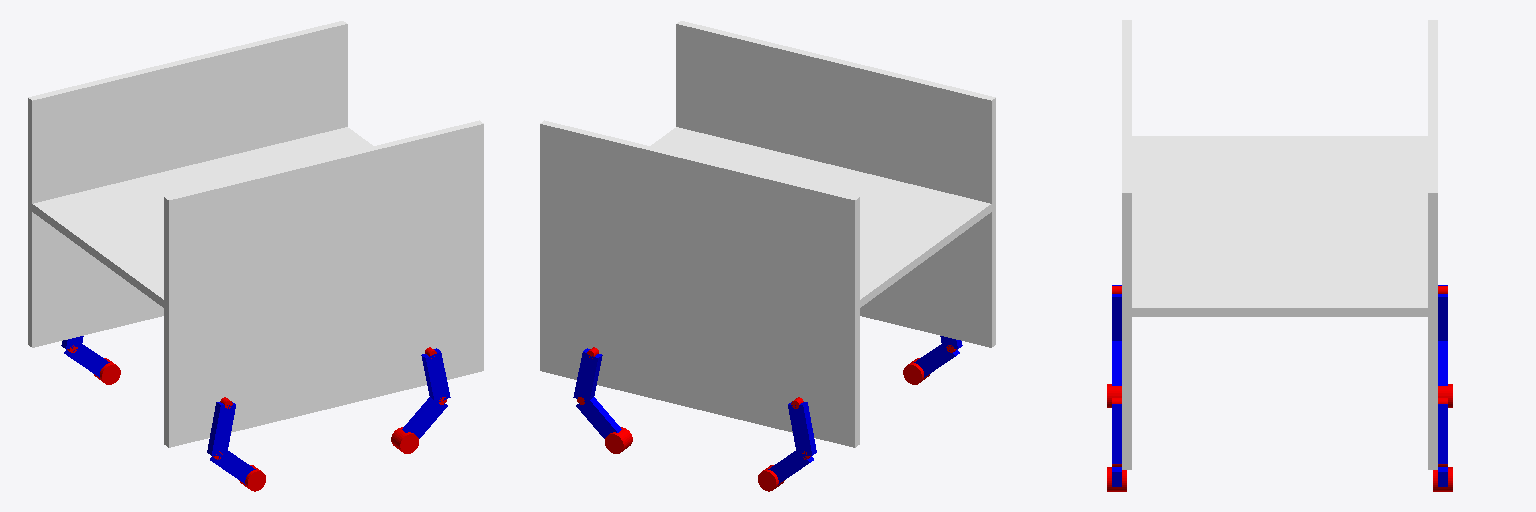
--- Facts derived from the render (not from the file) ---
3 views of the same robot in one strip: view 1: azimuth 30°, elevation 25°; view 2: azimuth 150°, elevation 25°; view 3: azimuth 270°, elevation 25° (orthographic).
Robot: anymal — 31 links, 30 joints (8 revolute, 22 fixed); root link base; default pose: all joints at 0.
Links seen in each view (by area): view 1: base_right, base_left, base, RF_THIGH_fixed, RH_THIGH_fixed, RH_SHANK_fixed, RF_SHANK_fixed, LF_SHANK_fixed; view 2: base_left, base_right, base, LF_THIGH_fixed, LH_THIGH_fixed, LH_SHANK_fixed, LF_SHANK_fixed, RF_SHANK_fixed; view 3: base, base_left, base_right, LH_THIGH_fixed, RH_THIGH_fixed.
Boxes of the visible links, <box> form: base_right: <box>164,120,483,447</box>; base_left: <box>28,21,347,347</box>; base: <box>30,127,372,309</box>; RF_THIGH_fixed: <box>207,402,235,455</box>; RH_THIGH_fixed: <box>421,348,450,403</box>; RH_SHANK_fixed: <box>402,397,447,438</box>; RF_SHANK_fixed: <box>210,448,255,484</box>; LF_SHANK_fixed: <box>64,342,109,377</box>; base_left: <box>540,120,859,447</box>; base_right: <box>676,21,995,347</box>; base: <box>651,127,993,307</box>; LF_THIGH_fixed: <box>788,402,816,455</box>; LH_THIGH_fixed: <box>573,348,602,403</box>; LH_SHANK_fixed: <box>576,397,621,438</box>; LF_SHANK_fixed: <box>768,448,813,484</box>; RF_SHANK_fixed: <box>914,342,959,377</box>; base: <box>1127,136,1432,316</box>; base_left: <box>1428,20,1437,469</box>; base_right: <box>1122,20,1131,469</box>; LH_THIGH_fixed: <box>1438,404,1447,463</box>; RH_THIGH_fixed: <box>1112,404,1121,463</box>.
Size in the robot's own frame: 0.02 by 0.017 by 0.0185 metres.
Geometry: primitives only (box / cylinder / sphere), no mesh files.

robot.urdf — anymal:
<?xml version="1.0" encoding="utf-8"?>
<!-- =================================================================================== -->
<!--   Copyright 2020 ANYbotics, https://www.anybotics.com                               -->
<!-- =================================================================================== -->
<!-- This file contains the description of the ANYmal C robot. -->
<robot name="anymal">
    <!-- Base link -->
    <link name="base">
        <visual>
            <origin rpy="0 0 0" xyz="0 0 0"/>
            <geometry>
                <box size = "0.02 0.015 0.5e-3"/>
            </geometry>
            <material name="Cyan">
                <color rgba="1.0 1.0 1.0 1.0"/>
            </material>
        </visual>
        <collision>
            <origin rpy="0 0 0" xyz="0 0 0"/>
            <geometry>
                <box size = "0.02 0.015 0.013"/>
            </geometry>
        </collision>
        <inertial>
            <origin xyz="0 0 0" rpy="0 0 0"/>
            <mass value="0.539e-3"/>
            <!-- <inertia 
                ixx="31.301e-9"  
                ixy="0"  
                ixz="0" 
                iyy="41.279e-9" 
                iyz="0" 
                izz="36.6e-9" /> -->
        </inertial>
    </link>
    <joint name="base_base_left" type="fixed">
        <parent link="base"/>
        <child link="base_left"/>
        <origin rpy="-1.5707963268 0 0" xyz="0 -0.0075 -0.001"/>
    </joint>

    <link name="base_left">
        <visual>
            <origin rpy="0 0 0" xyz="0 0 15e-3"/>
            <geometry>
                <box size = "0.02 0.015 0.5e-3"/>
            </geometry>
            <material name="Cyan">
                <color rgba="1.0 1.0 1.0 1.0"/>
            </material>
        </visual>
        <inertial>
            <origin xyz="0 0 0" rpy="0 0 0"/>
            <mass value="0.15e-3"/>
            <!-- <inertia 
                ixx="2.82e-9"  
                ixy="0"  
                ixz="0" 
                iyy="7.81e-9" 
                iyz="0" 
                izz="5.00e-9" /> -->
        </inertial>
    </link>

    <joint name="base_base_right" type="fixed">
        <parent link="base"/>
        <child link="base_right"/>
        <origin rpy="-1.5707963268 0 0.0" xyz="0 -0.0225 -0.001"/>
    </joint>

    <link name="base_right">
        <visual>
            <origin rpy="0 0 0" xyz="0 0 15e-3"/>
            <geometry>
                <box size = "0.02 0.015 0.5e-3"/>
            </geometry>
            <material name="Cyan">
                <color rgba="1.0 1.0 1.0 1.0"/>
            </material>
        </visual>
        <inertial>
            <origin xyz="0 0 0" rpy="0 0 0"/>
            <mass value="0.15e-3"/>
            <!-- <inertia 
                ixx="2.82e-9"  
                ixy="0"  
                ixz="0" 
                iyy="7.81e-9" 
                iyz="0" 
                izz="5.00e-9" /> -->
        </inertial>
    </link>


    <!--              -->
    <!-- Left Front Leg -->
    <!--              -->

    <!-- [rad] -->
    <!-- joint base HAA -->
    <joint name="base_LF_HFE" type="fixed">
        <parent link="base_left"/>
        <child link="LF_HFE"/>
        <origin rpy="0 0 3.34159265359" xyz="-0.0065 0.0055 0.0155"/>
    </joint>
    <!-- [m] -->
    <!-- [A] -->
    <!-- Drive Input Link -->
    <link name="LF_HFE">
        <visual>
            <origin rpy="0 0 0" xyz="0 0 0"/>
            <geometry>
                <cylinder length="0.5e-3" radius="0.25e-3"/>
            </geometry>
            <material name="Red">
                <color rgba="1.0 0.0 0.0 1.0"/>
            </material>
        </visual>
    </link>
    <!-- joint Drive output -->
    <joint name="LF_HFE" type="revolute">
        <parent link="LF_HFE"/>
        <child link="LF_THIGH"/>
        <origin rpy="0 0 0" xyz="0 0 0"/>
        <axis xyz="0 0 1"/>
        <limit effort="80.0" velocity="20." lower="-0.2" upper="0.2"/>
        <dynamics damping="0.0" friction="0.0"/>
    </joint>
    <!-- Drive Output Link -->
    <link name="LF_THIGH">
        <visual>
            <origin rpy="0 0 0" xyz="0 0 0"/>
            <geometry>
                <cylinder length="0.5e-3" radius="0.25e-3"/>
            </geometry>
            <material name="Red">
                <color rgba="1.0 0.0 0.0 0.8"/>
            </material>
        </visual>
    </link>
    <joint name="LF_THIGH_LF_THIGH_fixed" type="fixed">
        <parent link="LF_THIGH"/>
        <child link="LF_THIGH_fixed"/>
        <origin rpy="0 0 1.5707963268" xyz="0 -1.5e-3 0"/>
    </joint>
    <link name="LF_THIGH_fixed">
        <visual>
            <origin rpy="0 0 0" xyz="0 0 0"/>
            <geometry>
                <box size = "3e-3 1e-3 0.5e-3"/>
            </geometry>
            <material name="Blue">
                <color rgba="0.0 0.0 1.0 0.8"/>
            </material>
        </visual>
        <inertial>
            <origin rpy="0 0 0" xyz="0 0 0"/>
            <mass value="0.002e-9"/>
        <!-- <inertia 
            ixx="0.002e-9" 
            ixy="0" 
            ixz="0" 
            iyy="0.002e-9" 
            iyz="0" 
            izz="0.002e-9"/> -->
        </inertial>
    </link>
    <joint name="LF_THIGH_fixed_LF_KFE" type="fixed">
        <parent link="LF_THIGH_fixed"/>
        <child link="LF_KFE"/>
        <origin rpy="0 0 0.5235987756" xyz="-1.5e-3 0 0"/>
    </joint>
    <!-- [m] -->
    <!-- [A] -->
    <!-- Drive Input Link -->
    <link name="LF_KFE">
        <visual>
            <origin rpy="0 0 0" xyz="0 0 0"/>
            <geometry>
                <cylinder length="0.5e-3" radius="0.25e-3"/>
            </geometry>
            <material name="Red">
                <color rgba="1.0 0.0 0.0 0.8"/>
            </material>
        </visual>
        <collision>
            <origin rpy="0 0 0" xyz="0 0 0"/>
            <geometry>
                <cylinder length="0.5e-3" radius="0.25e-3"/>
            </geometry>
        </collision>
    </link>
    <!-- joint Drive output -->
    <joint name="LF_KFE" type="revolute">
        <parent link="LF_KFE"/>
        <child link="LF_SHANK"/>
        <origin rpy="0 0 0" xyz="0 0 0"/>
        <axis xyz="0 0 1"/>
        <limit effort="80.0" velocity="20." lower="-0.2" upper="0.2"/>
        <dynamics damping="0.0" friction="0.0"/>
    </joint>
    <!-- Drive Output Link -->
    <link name="LF_SHANK">
        <visual>
            <origin rpy="0 0 0" xyz="0 0 0"/>
            <geometry>
                <cylinder length="0.5e-3" radius="0.25e-3"/>
            </geometry>
            <material name="Red">
                <color rgba="1.0 0.0 0.0 0.8"/>
            </material>
        </visual>
    </link>
    <joint name="LF_SHANK_LF_SHANK_fixed" type="fixed">
        <parent link="LF_SHANK"/>
        <child link="LF_SHANK_fixed"/>
        <origin rpy="0 0 1.5707963268" xyz="0 1.5e-3 0"/>
    </joint>
    <link name="LF_SHANK_fixed">
        <visual>
            <origin rpy="0 0 0" xyz="0 0 0"/>
            <geometry>
                <box size = "3e-3 1e-3 0.5e-3"/>
            </geometry>
            <material name="Blue">
                <color rgba="0.0 0.0 1.0 0.8"/>
            </material>
        </visual>
        <inertial>
            <origin rpy="0 0 0" xyz="0 0 0"/>
            <mass value="0.002e-9"/>
        <!-- <inertia 
            ixx="0.002e-9" 
            ixy="0" 
            ixz="0" 
            iyy="0.002e-9" 
            iyz="0" 
            izz="0.002e-9"/> -->
        </inertial>
    </link>
    <joint name="LF_SHANK_fixed_LF_Foot" type="fixed">
        <parent link="LF_SHANK_fixed"/>
        <child link="LF_Foot"/>
        <origin rpy="0 0 1.5707963268" xyz="1.5e-3 0 0"/>
    </joint>
    <link name="LF_Foot">
        <visual>
            <origin rpy="0 0 0" xyz="0 0 0"/>
            <geometry>
                <cylinder length="1e-3" radius="0.6e-3"/>
            </geometry>
            <material name="Red">
                <color rgba="1.0 0.0 0.0 0.8"/>
            </material>
        </visual>
        <collision>
            <origin rpy="0 0 0" xyz="0 0 0"/>
            <geometry>
                <cylinder length="1e-3" radius="0.6e-3"/>
            </geometry>
        </collision>
    </link>



    <!--              -->
    <!-- Left Hind Leg -->
    <!--              -->

    <!-- [rad] -->
    <!-- joint base HAA -->
    <joint name="base_LH_HFE" type="fixed">
        <parent link="base_left"/>
        <child link="LH_HFE"/>
        <origin rpy="0 0 2.9415926535" xyz="0.0065 0.0055 0.0155"/>
    </joint>
    <!-- [m] -->
    <!-- [A] -->
    <!-- Drive Input Link -->
    <link name="LH_HFE">
        <visual>
            <origin rpy="0 0 0" xyz="0 0 0"/>
            <geometry>
                <cylinder length="0.5e-3" radius="0.25e-3"/>
            </geometry>
            <material name="Red">
                <color rgba="1.0 0.0 0.0 1.0"/>
            </material>
        </visual>
    </link>
    <!-- joint Drive output -->
    <joint name="LH_HFE" type="revolute">
        <parent link="LH_HFE"/>
        <child link="LH_THIGH"/>
        <origin rpy="0 0 0" xyz="0 0 0"/>
        <axis xyz="0 0 1"/>
        <limit effort="80.0" velocity="20." lower="-0.2" upper="0.2"/>
        <dynamics damping="0.0" friction="0.0"/>
    </joint>
    <!-- Drive Output Link -->
    <link name="LH_THIGH">
        <visual>
            <origin rpy="0 0 0" xyz="0 0 0"/>
            <geometry>
                <cylinder length="0.5e-3" radius="0.25e-3"/>
            </geometry>
            <material name="Red">
                <color rgba="1.0 0.0 0.0 0.8"/>
            </material>
        </visual>
    </link>
    <joint name="LH_THIGH_LH_THIGH_fixed" type="fixed">
        <parent link="LH_THIGH"/>
        <child link="LH_THIGH_fixed"/>
        <origin rpy="0 0 1.5707963268" xyz="0 -1.5e-3 0"/>
    </joint>
    <link name="LH_THIGH_fixed">
        <visual>
            <origin rpy="0 0 0" xyz="0 0 0"/>
            <geometry>
                <box size = "3e-3 1e-3 0.5e-3"/>
            </geometry>
            <material name="Blue">
                <color rgba="0.0 0.0 1.0 0.8"/>
            </material>
        </visual>
        <inertial>
            <origin rpy="0 0 0" xyz="0 0 0"/>
            <mass value="0.002e-9"/>
        <!-- <inertia 
            ixx="0.002e-9" 
            ixy="0" 
            ixz="0" 
            iyy="0.002e-9" 
            iyz="0" 
            izz="0.002e-9"/> -->
        </inertial>
    </link>
    <joint name="LH_THIGH_fixed_LH_KFE" type="fixed">
        <parent link="LH_THIGH_fixed"/>
        <child link="LH_KFE"/>
        <origin rpy="0 0 2.61799387799" xyz="-1.5e-3 0 0"/>
    </joint>
    <!-- [m] -->
    <!-- [A] -->
    <!-- Drive Input Link -->
    <link name="LH_KFE">
        <visual>
            <origin rpy="0 0 0" xyz="0 0 0"/>
            <geometry>
                <cylinder length="0.5e-3" radius="0.25e-3"/>
            </geometry>
            <material name="Red">
                <color rgba="1.0 0.0 0.0 0.8"/>
            </material>
        </visual>
        <collision>
            <origin rpy="0 0 0" xyz="0 0 0"/>
            <geometry>
                <cylinder length="0.5e-3" radius="0.25e-3"/>
            </geometry>
        </collision>
    </link>
    <!-- joint Drive output -->
    <joint name="LH_KFE" type="revolute">
        <parent link="LH_KFE"/>
        <child link="LH_SHANK"/>
        <origin rpy="0 0 0" xyz="0 0 0"/>
        <axis xyz="0 0 1"/>
        <limit effort="80.0" velocity="20." lower="-0.2" upper="0.2"/>
        <dynamics damping="0.0" friction="0.0"/>
    </joint>
    <!-- Drive Output Link -->
    <link name="LH_SHANK">
        <visual>
            <origin rpy="0 0 0" xyz="0 0 0"/>
            <geometry>
                <cylinder length="0.5e-3" radius="0.25e-3"/>
            </geometry>
            <material name="Red">
                <color rgba="1.0 0.0 0.0 0.8"/>
            </material>
        </visual>
    </link>
    <joint name="LH_SHANK_LH_SHANK_fixed" type="fixed">
        <parent link="LH_SHANK"/>
        <child link="LH_SHANK_fixed"/>
        <origin rpy="0 0 1.5707963268" xyz="0 1.5e-3 0"/>
    </joint>
    <link name="LH_SHANK_fixed">
        <visual>
            <origin rpy="0 0 0" xyz="0 0 0"/>
            <geometry>
                <box size = "3e-3 1e-3 0.5e-3"/>
            </geometry>
            <material name="Blue">
                <color rgba="0.0 0.0 1.0 0.8"/>
            </material>
        </visual>
        <inertial>
            <origin rpy="0 0 0" xyz="0 0 0"/>
            <mass value="0.002e-9"/>
        <!-- <inertia 
            ixx="0.002e-9" 
            ixy="0" 
            ixz="0" 
            iyy="0.002e-9" 
            iyz="0" 
            izz="0.002e-9"/> -->
        </inertial>
    </link>
    <joint name="LH_SHANK_fixed_LH_Foot" type="fixed">
        <parent link="LH_SHANK_fixed"/>
        <child link="LH_Foot"/>
        <origin rpy="0 0 1.5707963268" xyz="1.5e-3 0 0"/>
    </joint>
    <link name="LH_Foot">
        <visual>
            <origin rpy="0 0 0" xyz="0 0 0"/>
            <geometry>
                <cylinder length="1e-3" radius="0.6e-3"/>
            </geometry>
            <material name="Red">
                <color rgba="1.0 0.0 0.0 0.8"/>
            </material>
        </visual>
        <collision>
            <origin rpy="0 0 0" xyz="0 0 0"/>
            <geometry>
                <cylinder length="1e-3" radius="0.6e-3"/>
            </geometry>
        </collision>
    </link>

    <!--              -->
    <!-- Right Front Leg -->
    <!--              -->

    <!-- [rad] -->
    <!-- joint base HAA -->
    <joint name="base_RF_HFE" type="fixed">
        <parent link="base_right"/>
        <child link="RF_HFE"/>
        <origin rpy="0 0 3.34159265359" xyz="-0.0065 0.0055 0.0145"/>
    </joint>
    <!-- [m] -->
    <!-- [A] -->
    <!-- Drive Input Link -->
    <link name="RF_HFE">
        <visual>
            <origin rpy="0 0 0" xyz="0 0 0"/>
            <geometry>
                <cylinder length="0.5e-3" radius="0.25e-3"/>
            </geometry>
            <material name="Red">
                <color rgba="1.0 0.0 0.0 1.0"/>
            </material>
        </visual>
    </link>
    <!-- joint Drive output -->
    <joint name="RF_HFE" type="revolute">
        <parent link="RF_HFE"/>
        <child link="RF_THIGH"/>
        <origin rpy="0 0 0" xyz="0 0 0"/>
        <axis xyz="0 0 1"/>
        <limit effort="80.0" velocity="20." lower="-0.2" upper="0.2"/>
        <dynamics damping="0.0" friction="0.0"/>
    </joint>
    <!-- Drive Output Link -->
    <link name="RF_THIGH">
        <visual>
            <origin rpy="0 0 0" xyz="0 0 0"/>
            <geometry>
                <cylinder length="0.5e-3" radius="0.25e-3"/>
            </geometry>
            <material name="Red">
                <color rgba="1.0 0.0 0.0 0.8"/>
            </material>
        </visual>
    </link>
    <joint name="RF_THIGH_RF_THIGH_fixed" type="fixed">
        <parent link="RF_THIGH"/>
        <child link="RF_THIGH_fixed"/>
        <origin rpy="0 0 1.5707963268" xyz="0 -1.5e-3 0"/>
    </joint>
    <link name="RF_THIGH_fixed">
        <visual>
            <origin rpy="0 0 0" xyz="0 0 0"/>
            <geometry>
                <box size = "3e-3 1e-3 0.5e-3"/>
            </geometry>
            <material name="Blue">
                <color rgba="0.0 0.0 1.0 0.8"/>
            </material>
        </visual>
        <inertial>
            <origin rpy="0 0 0" xyz="0 0 0"/>
            <mass value="0.002e-9"/>
        <!-- <inertia 
            ixx="0.002e-9" 
            ixy="0" 
            ixz="0" 
            iyy="0.002e-9" 
            iyz="0" 
            izz="0.002e-9"/> -->
        </inertial>
    </link>
    <joint name="RF_THIGH_fixed_RF_KFE" type="fixed">
        <parent link="RF_THIGH_fixed"/>
        <child link="RF_KFE"/>
        <origin rpy="0 0 0.5235987756" xyz="-1.5e-3 0 0"/>
    </joint>
    <!-- [m] -->
    <!-- [A] -->
    <!-- Drive Input Link -->
    <link name="RF_KFE">
        <visual>
            <origin rpy="0 0 0" xyz="0 0 0"/>
            <geometry>
                <cylinder length="0.5e-3" radius="0.25e-3"/>
            </geometry>
            <material name="Red">
                <color rgba="1.0 0.0 0.0 0.8"/>
            </material>
        </visual>
        <collision>
            <origin rpy="0 0 0" xyz="0 0 0"/>
            <geometry>
                <cylinder length="0.5e-3" radius="0.25e-3"/>
            </geometry>
        </collision>
    </link>
    <!-- joint Drive output -->
    <joint name="RF_KFE" type="revolute">
        <parent link="RF_KFE"/>
        <child link="RF_SHANK"/>
        <origin rpy="0 0 0" xyz="0 0 0"/>
        <axis xyz="0 0 1"/>
        <limit effort="80.0" velocity="20." lower="-0.2" upper="0.2"/>
        <dynamics damping="0.0" friction="0.0"/>
    </joint>
    <!-- Drive Output Link -->
    <link name="RF_SHANK">
        <visual>
            <origin rpy="0 0 0" xyz="0 0 0"/>
            <geometry>
                <cylinder length="0.5e-3" radius="0.25e-3"/>
            </geometry>
            <material name="Red">
                <color rgba="1.0 0.0 0.0 0.8"/>
            </material>
        </visual>
    </link>
    <joint name="RF_SHANK_RF_SHANK_fixed" type="fixed">
        <parent link="RF_SHANK"/>
        <child link="RF_SHANK_fixed"/>
        <origin rpy="0 0 1.5707963268" xyz="0 1.5e-3 0"/>
    </joint>
    <link name="RF_SHANK_fixed">
        <visual>
            <origin rpy="0 0 0" xyz="0 0 0"/>
            <geometry>
                <box size = "3e-3 1e-3 0.5e-3"/>
            </geometry>
            <material name="Blue">
                <color rgba="0.0 0.0 1.0 0.8"/>
            </material>
        </visual>
        <inertial>
            <origin rpy="0 0 0" xyz="0 0 0"/>
            <mass value="0.002e-9"/>
        <!-- <inertia 
            ixx="0.002e-9" 
            ixy="0" 
            ixz="0" 
            iyy="0.002e-9" 
            iyz="0" 
            izz="0.002e-9"/> -->
        </inertial>
    </link>
    <joint name="RF_SHANK_fixed_RF_Foot" type="fixed">
        <parent link="RF_SHANK_fixed"/>
        <child link="RF_Foot"/>
        <origin rpy="0 0 1.5707963268" xyz="1.5e-3 0 0"/>
    </joint>
    <link name="RF_Foot">
        <visual>
            <origin rpy="0 0 0" xyz="0 0 0"/>
            <geometry>
                <cylinder length="1e-3" radius="0.6e-3"/>
            </geometry>
            <material name="Red">
                <color rgba="1.0 0.0 0.0 0.8"/>
            </material>
        </visual>
        <collision>
            <origin rpy="0 0 0" xyz="0 0 0"/>
            <geometry>
                <cylinder length="1e-3" radius="0.6e-3"/>
            </geometry>
        </collision>
    </link>



    <!--              -->
    <!-- Right Hind Leg -->
    <!--              -->

    <!-- [rad] -->
    <!-- joint base HAA -->
    <joint name="base_RH_HFE" type="fixed">
        <parent link="base_right"/>
        <child link="RH_HFE"/>
        <origin rpy="0 0 2.9415926535" xyz="0.0065 0.0055 0.0145"/>
    </joint>
    <!-- [m] -->
    <!-- [A] -->
    <!-- Drive Input Link -->
    <link name="RH_HFE">
        <visual>
            <origin rpy="0 0 0" xyz="0 0 0"/>
            <geometry>
                <cylinder length="0.5e-3" radius="0.25e-3"/>
            </geometry>
            <material name="Red">
                <color rgba="1.0 0.0 0.0 1.0"/>
            </material>
        </visual>
    </link>
    <!-- joint Drive output -->
    <joint name="RH_HFE" type="revolute">
        <parent link="RH_HFE"/>
        <child link="RH_THIGH"/>
        <origin rpy="0 0 0" xyz="0 0 0"/>
        <axis xyz="0 0 1"/>
        <limit effort="80.0" velocity="20." lower="-0.2" upper="0.2"/>
        <dynamics damping="0.0" friction="0.0"/>
    </joint>
    <!-- Drive Output Link -->
    <link name="RH_THIGH">
        <visual>
            <origin rpy="0 0 0" xyz="0 0 0"/>
            <geometry>
                <cylinder length="0.5e-3" radius="0.25e-3"/>
            </geometry>
            <material name="Red">
                <color rgba="1.0 0.0 0.0 0.8"/>
            </material>
        </visual>
    </link>
    <joint name="RH_THIGH_RH_THIGH_fixed" type="fixed">
        <parent link="RH_THIGH"/>
        <child link="RH_THIGH_fixed"/>
        <origin rpy="0 0 1.5707963268" xyz="0 -1.5e-3 0"/>
    </joint>
    <link name="RH_THIGH_fixed">
        <visual>
            <origin rpy="0 0 0" xyz="0 0 0"/>
            <geometry>
                <box size = "3e-3 1e-3 0.5e-3"/>
            </geometry>
            <material name="Blue">
                <color rgba="0.0 0.0 1.0 0.8"/>
            </material>
        </visual>
        <inertial>
            <origin rpy="0 0 0" xyz="0 0 0"/>
            <mass value="0.002e-9"/>
        <!-- <inertia 
            ixx="0.002e-9" 
            ixy="0" 
            ixz="0" 
            iyy="0.002e-9" 
            iyz="0" 
            izz="0.002e-9"/> -->
        </inertial>
    </link>
    <joint name="RH_THIGH_fixed_RH_KFE" type="fixed">
        <parent link="RH_THIGH_fixed"/>
        <child link="RH_KFE"/>
        <origin rpy="0 0 2.61799387799" xyz="-1.5e-3 0 0"/>
    </joint>
    <!-- [m] -->
    <!-- [A] -->
    <!-- Drive Input Link -->
    <link name="RH_KFE">
        <visual>
            <origin rpy="0 0 0" xyz="0 0 0"/>
            <geometry>
                <cylinder length="0.5e-3" radius="0.25e-3"/>
            </geometry>
            <material name="Red">
                <color rgba="1.0 0.0 0.0 0.8"/>
            </material>
        </visual>
        <collision>
            <origin rpy="0 0 0" xyz="0 0 0"/>
            <geometry>
                <cylinder length="0.5e-3" radius="0.25e-3"/>
            </geometry>
        </collision>
    </link>
    <!-- joint Drive output -->
    <joint name="RH_KFE" type="revolute">
        <parent link="RH_KFE"/>
        <child link="RH_SHANK"/>
        <origin rpy="0 0 0" xyz="0 0 0"/>
        <axis xyz="0 0 1"/>
        <limit effort="80.0" velocity="20." lower="-0.2" upper="0.2"/>
        <dynamics damping="0.0" friction="0.0"/>
    </joint>
    <!-- Drive Output Link -->
    <link name="RH_SHANK">
        <visual>
            <origin rpy="0 0 0" xyz="0 0 0"/>
            <geometry>
                <cylinder length="0.5e-3" radius="0.25e-3"/>
            </geometry>
            <material name="Red">
                <color rgba="1.0 0.0 0.0 0.8"/>
            </material>
        </visual>
    </link>
    <joint name="RH_SHANK_RH_SHANK_fixed" type="fixed">
        <parent link="RH_SHANK"/>
        <child link="RH_SHANK_fixed"/>
        <origin rpy="0 0 1.5707963268" xyz="0 1.5e-3 0"/>
    </joint>
    <link name="RH_SHANK_fixed">
        <visual>
            <origin rpy="0 0 0" xyz="0 0 0"/>
            <geometry>
                <box size = "3e-3 1e-3 0.5e-3"/>
            </geometry>
            <material name="Blue">
                <color rgba="0.0 0.0 1.0 0.8"/>
            </material>
        </visual>
        <inertial>
            <origin rpy="0 0 0" xyz="0 0 0"/>
            <mass value="0.002e-9"/>
        <!-- <inertia 
            ixx="0.002e-9" 
            ixy="0" 
            ixz="0" 
            iyy="0.002e-9" 
            iyz="0" 
            izz="0.002e-9"/> -->
        </inertial>
    </link>
    <joint name="RH_SHANK_fixed_RH_Foot" type="fixed">
        <parent link="RH_SHANK_fixed"/>
        <child link="RH_Foot"/>
        <origin rpy="0 0 1.5707963268" xyz="1.5e-3 0 0"/>
    </joint>
    <link name="RH_Foot">
        <visual>
            <origin rpy="0 0 0" xyz="0 0 0"/>
            <geometry>
                <cylinder length="1e-3" radius="0.6e-3"/>
            </geometry>
            <material name="Red">
                <color rgba="1.0 0.0 0.0 0.8"/>
            </material>
        </visual>
        <collision>
            <origin rpy="0 0 0" xyz="0 0 0"/>
            <geometry>
                <cylinder length="1e-3" radius="0.6e-3"/>
            </geometry>
        </collision>
    </link>

</robot>
